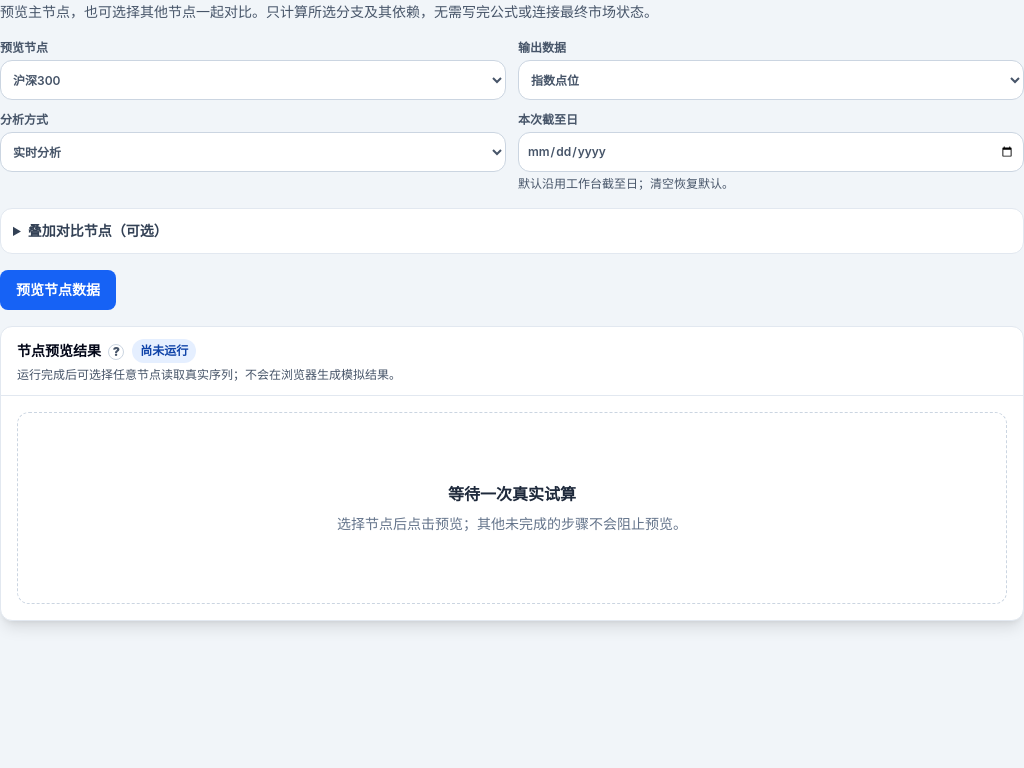
Scenario: 模式、截至日或目标改变后旧结果标记过期，不自动覆盖原算法
Type "2024-01-01" into the date field named "节点预览截至日" at (771, 152), box left=518, top=132, right=1023, bottom=172
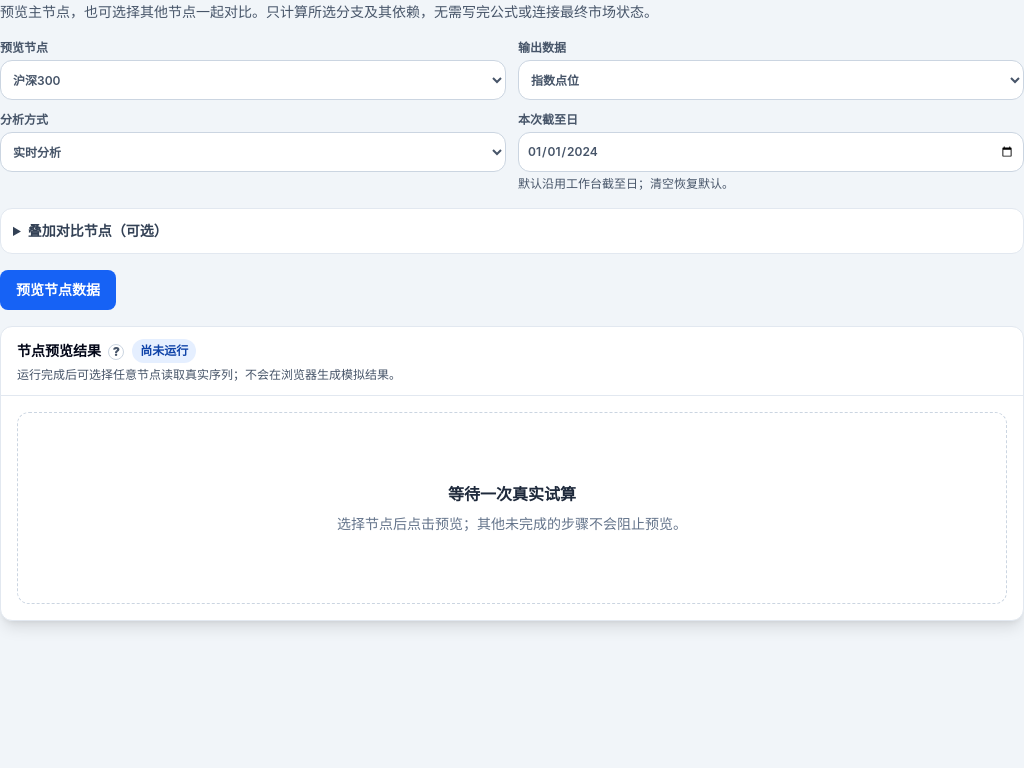
Click the button "预览节点数据" at (58, 290), box left=0, top=270, right=116, bottom=310
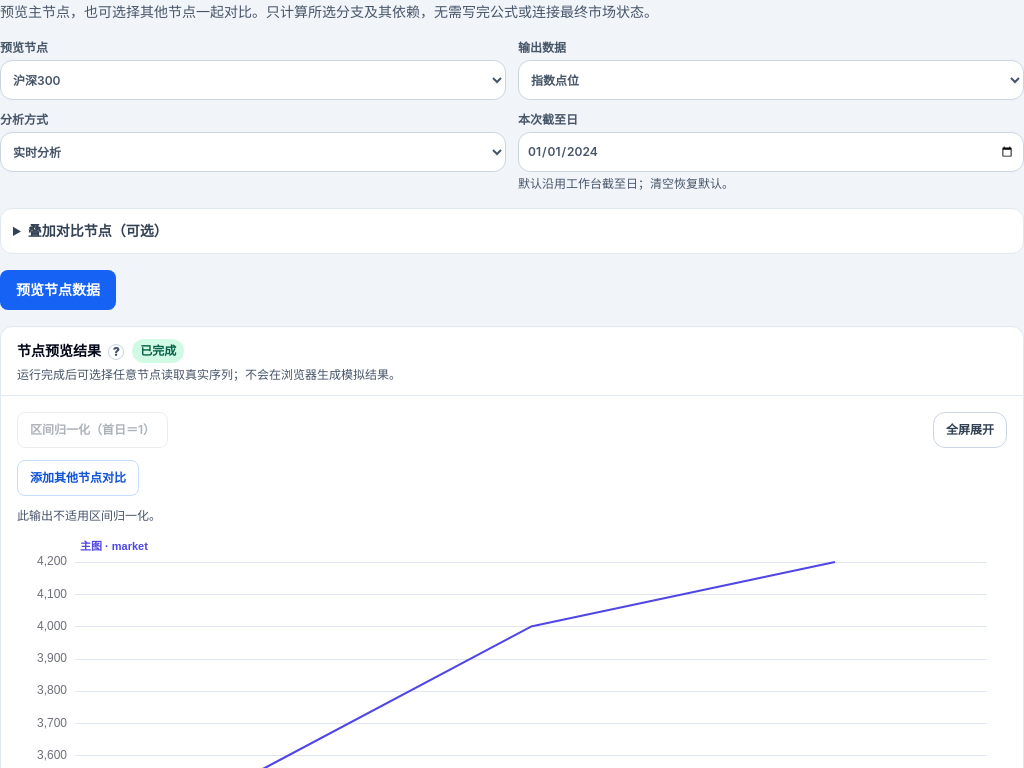
Select "事后研究" in the dropdown named "节点预览分析方式" at (253, 152), box left=0, top=132, right=506, bottom=172
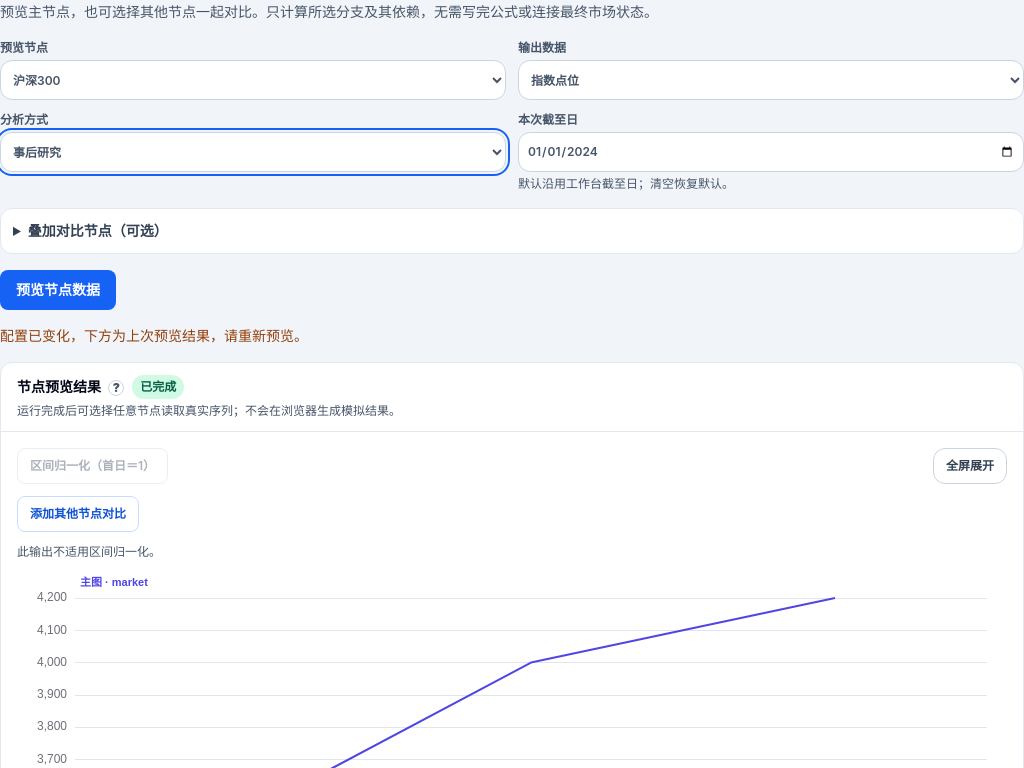
expect the message shows "配置已变化": met, box left=0, top=327, right=308, bottom=344
Select "分类器" in the dropdown named "待预览节点" at (253, 80), box left=0, top=60, right=506, bottom=100
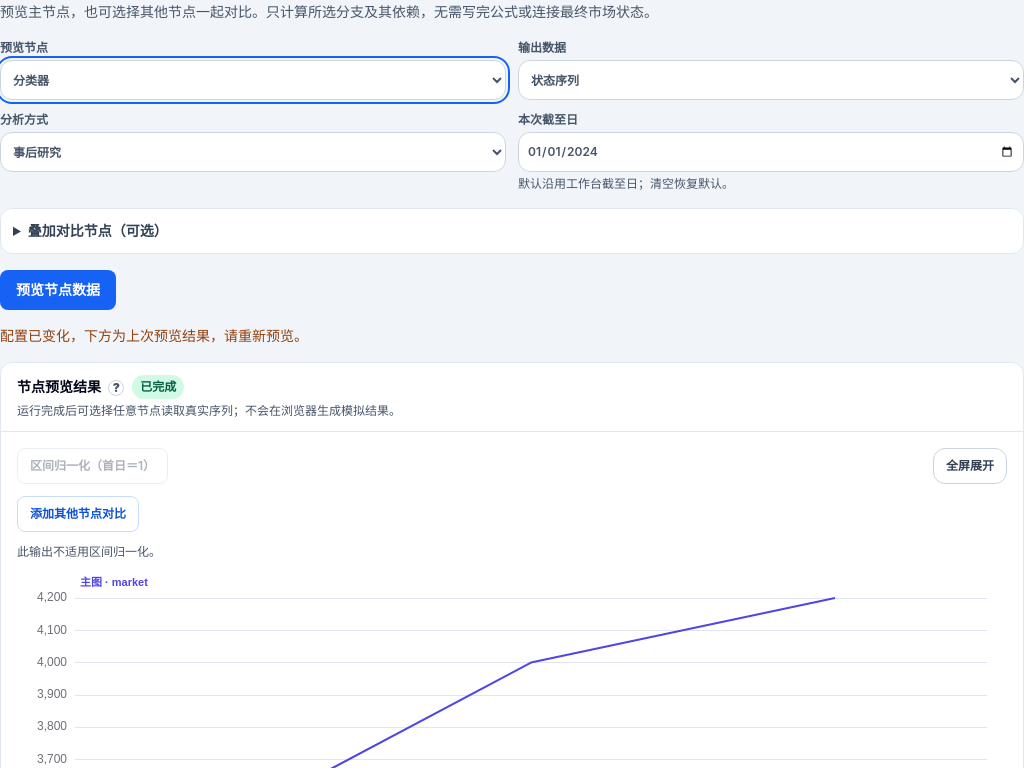
expect the dropdown named "预览输出端口" shows "状态序列": met, box left=518, top=60, right=1023, bottom=100
